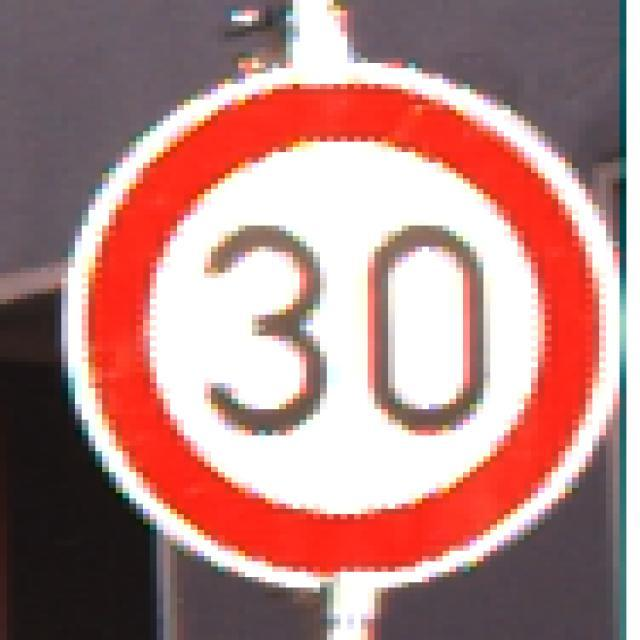Speed Limit -30-: (51, 55, 616, 585)
